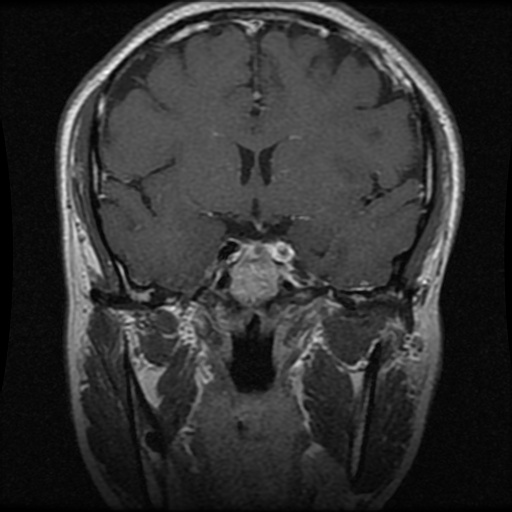pituitary: (242, 244, 274, 260)
